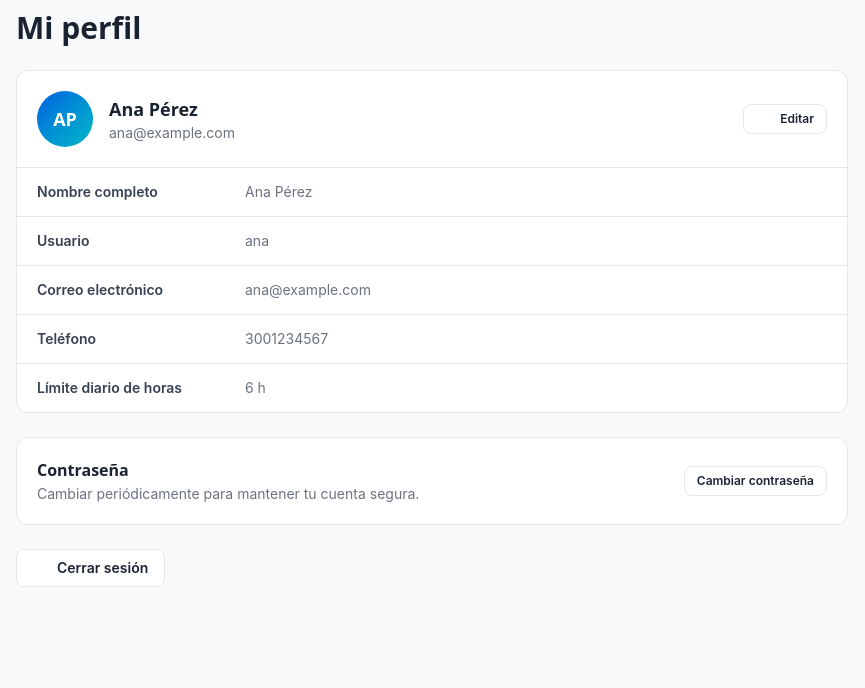
Scenario: ProfilePage › muestra errores de validación dentro del formulario
The image size is (865, 688).
Step 1. Click the button "Editar" → (785, 119), box [743,104,827,134]
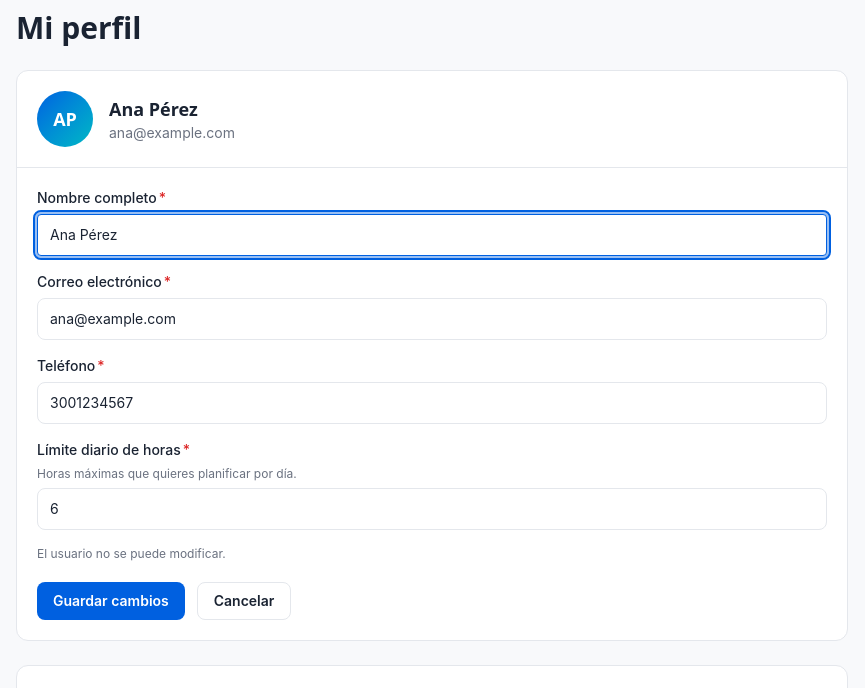
Step 2. Replace the text in the field labelled "Correo electrónico*" with "mal" → (432, 319), box [37,298,827,340]
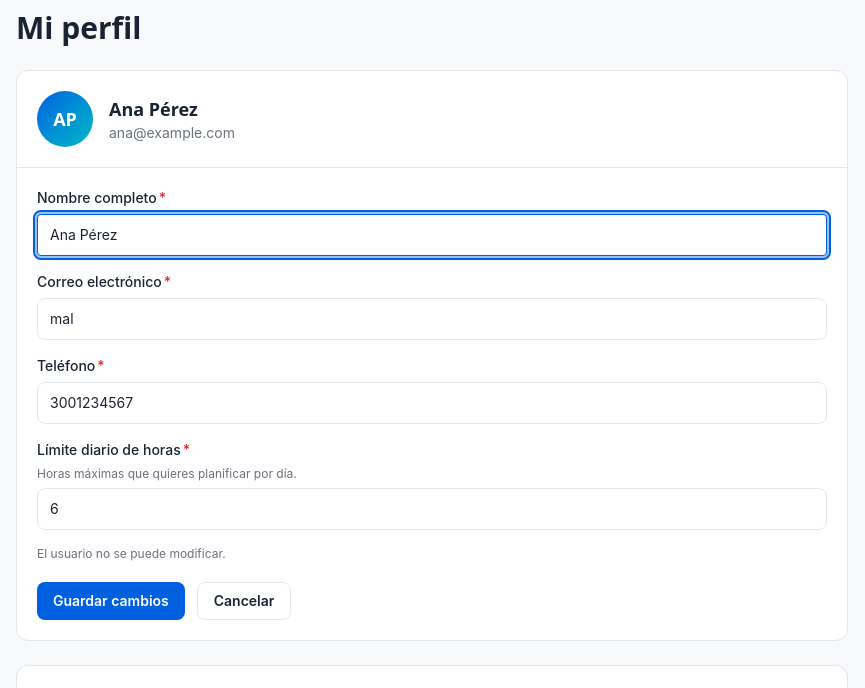
Step 3. Click the button "Guardar cambios" → (111, 601), box [37,582,185,620]
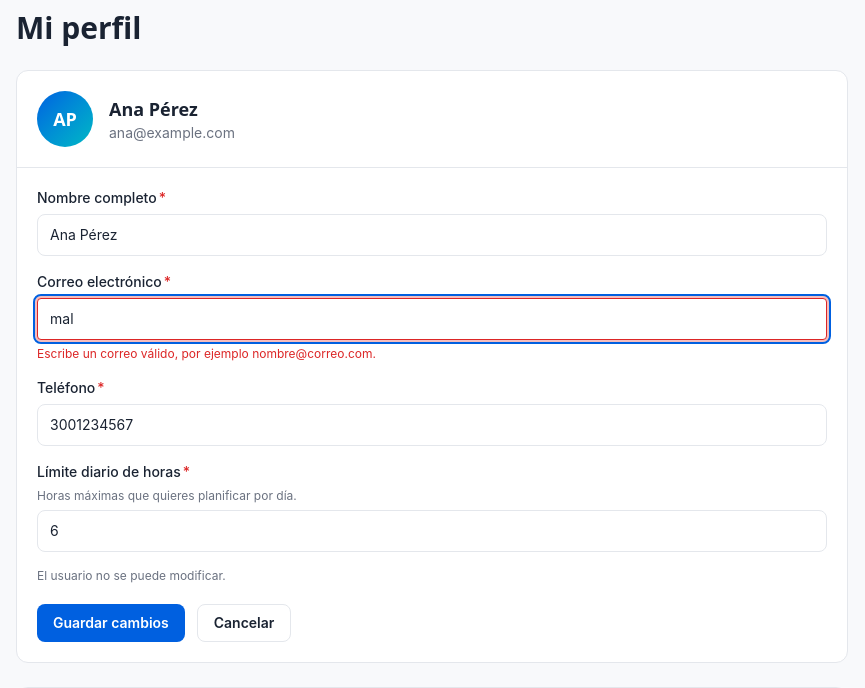
expect the text "Escribe un correo válido, por ejemplo nombre@correo.com." is shown: met, box [37,346,376,361]
